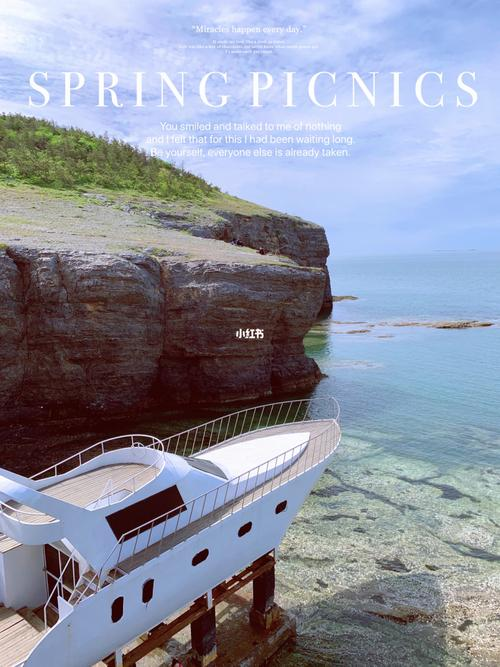buildings: (21, 431, 340, 641)
